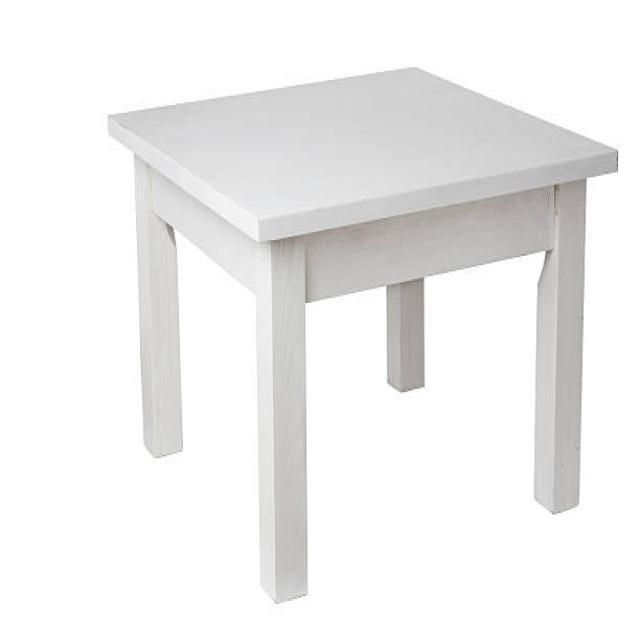table: (106, 63, 620, 604)
